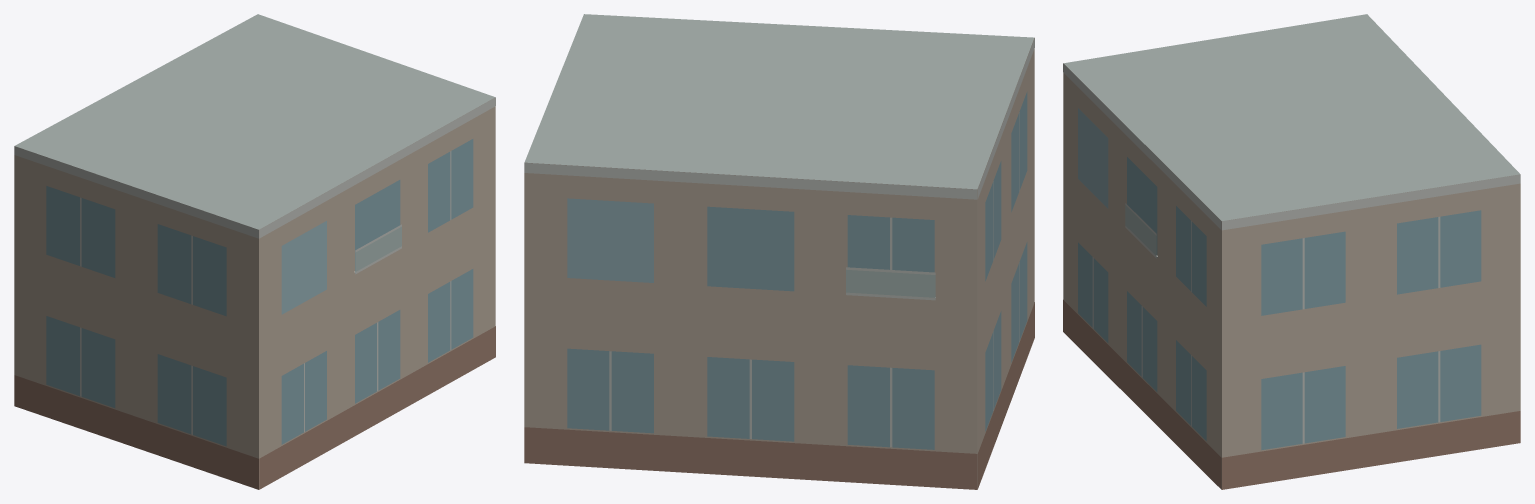
File: survey-upis-32749825.glb
3 views of the same model, side by side, from view 1: azimuth 30°, elevation 25°; view 2: azimuth 150°, elevation 25°; view 3: azimuth 270°, elevation 25° (orthographic). The views are drawn at different scales.
Visible parts, largest first — view 1: survey-upis-32749825.tmp; view 2: survey-upis-32749825.tmp; view 3: survey-upis-32749825.tmp.
Boxes of the visible parts, x1,y1,x2,y2 form: survey-upis-32749825.tmp: (14, 14, 495, 489); survey-upis-32749825.tmp: (524, 14, 1034, 489); survey-upis-32749825.tmp: (1063, 14, 1520, 489).
Size of the model in its own units: 11.75 by 7.1 by 10.96.
